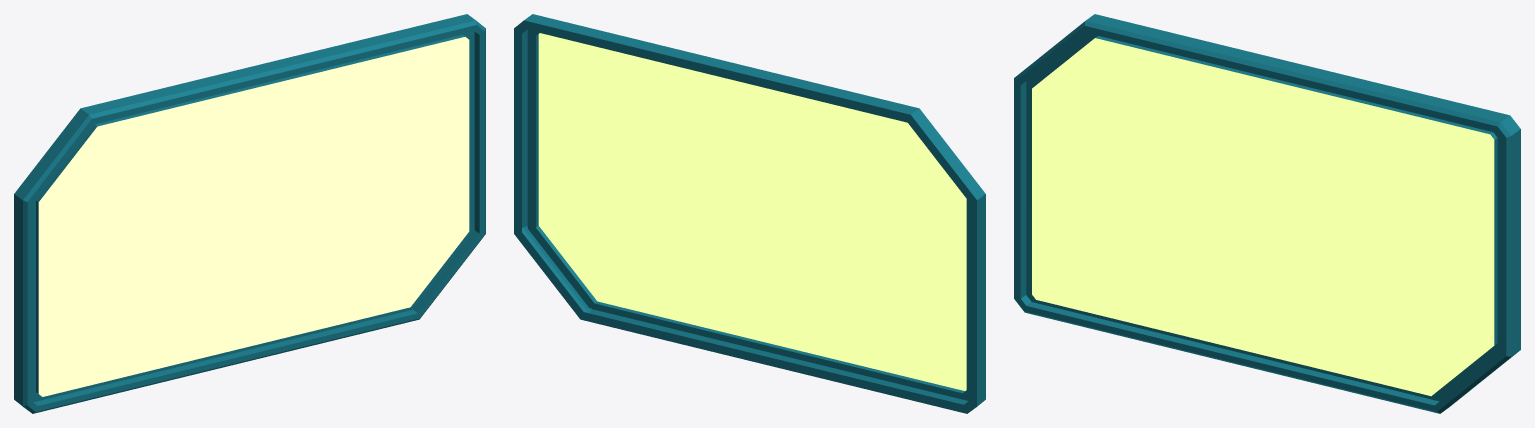
The model's file is Mesh_BackgroundProp_Advertising_07.FBX.
3 views of the same model, side by side, from view 1: azimuth 30°, elevation 25°; view 2: azimuth 150°, elevation 25°; view 3: azimuth 330°, elevation 25° (orthographic). The views are drawn at different scales.
Visible parts, largest first — view 1: Mesh_BackgroundProp_Advertising_07; view 2: Mesh_BackgroundProp_Advertising_07; view 3: Mesh_BackgroundProp_Advertising_07.
Boxes of the visible parts, bbox=[...] form: Mesh_BackgroundProp_Advertising_07: bbox=[14, 14, 485, 413]; Mesh_BackgroundProp_Advertising_07: bbox=[514, 14, 985, 413]; Mesh_BackgroundProp_Advertising_07: bbox=[1014, 14, 1520, 413].
Bounding box in the file's own units: 4955 × 195 × 2918.
